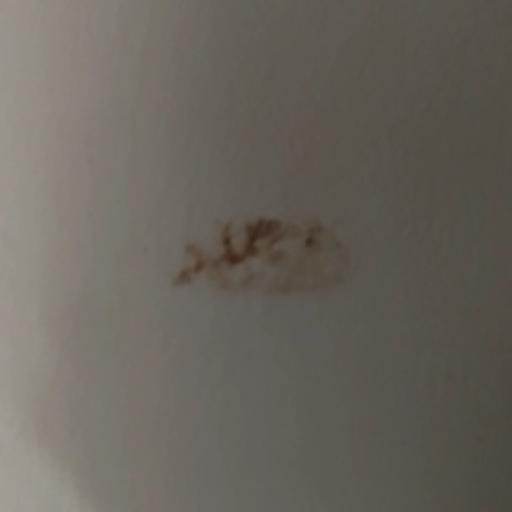stain: (161, 187, 376, 329)
